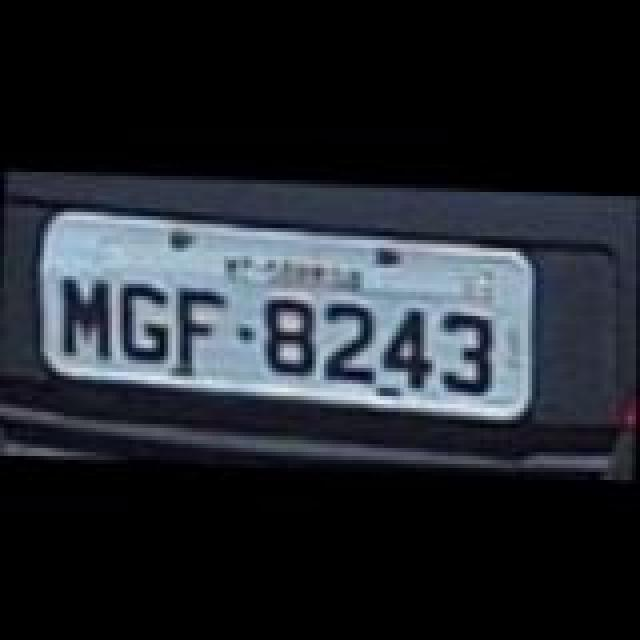2: (318, 298, 382, 382)
3: (438, 304, 502, 392)
4: (376, 302, 436, 382)
8: (256, 292, 324, 376)
F: (172, 286, 232, 366)
G: (114, 276, 178, 360)
M: (56, 270, 116, 354)
